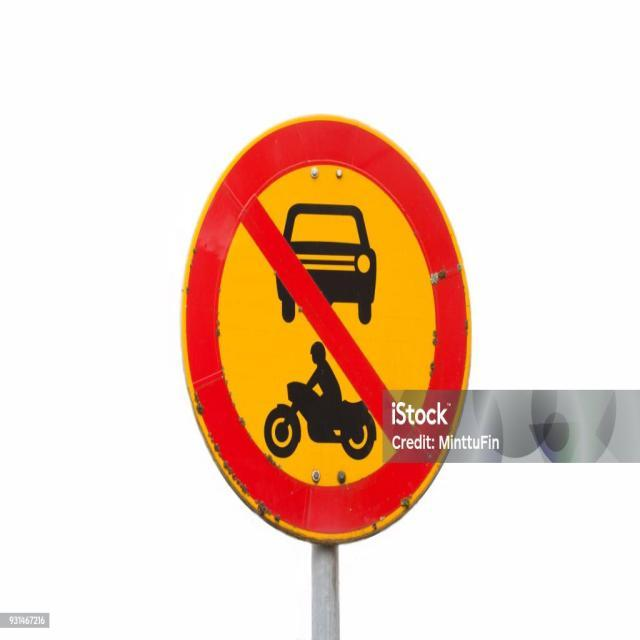all motor vehicle prohibited: (176, 108, 477, 554)
